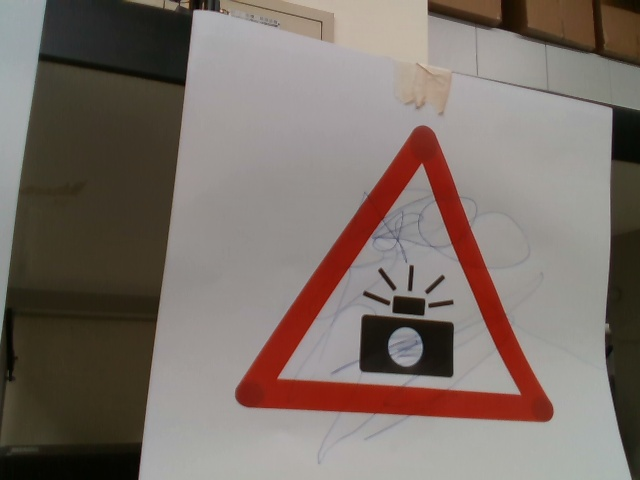camera: (231, 122, 560, 432)
